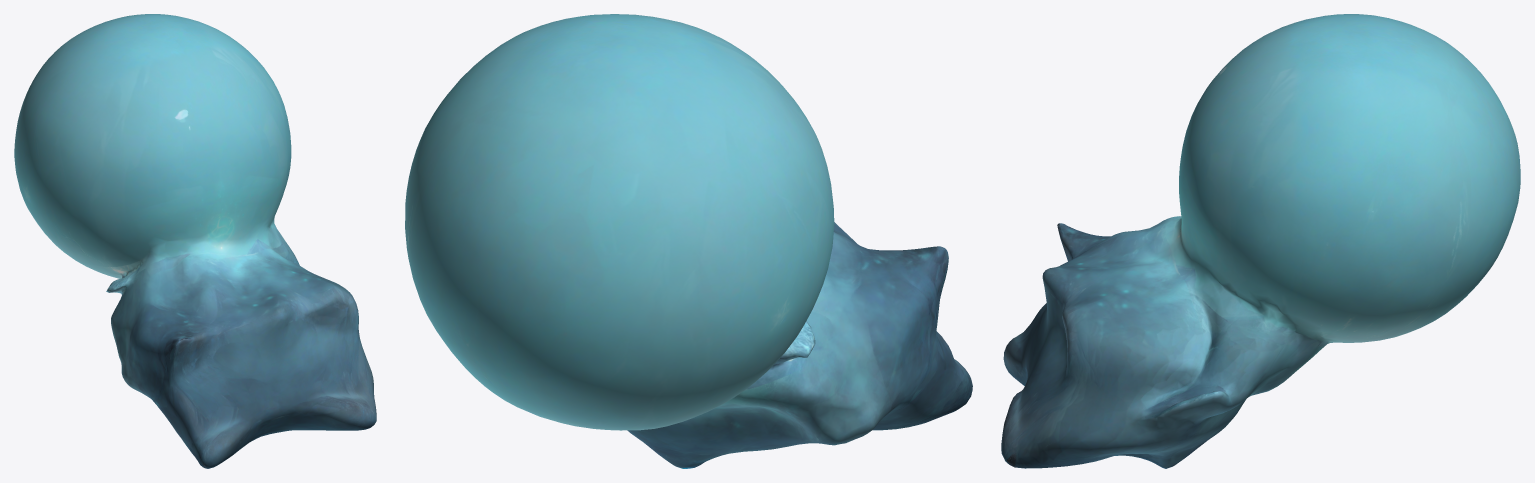
File: Model_Soul.fbx
3 views of the same model, side by side, from view 1: azimuth 30°, elevation 25°; view 2: azimuth 150°, elevation 25°; view 3: azimuth 270°, elevation 25° (orthographic). The views are drawn at different scales.
Parts seen in each view (by area): view 1: input; view 2: input; view 3: input.
Part boxes in pixels (bbox=[...]): input: bbox=[14, 14, 376, 468]; input: bbox=[405, 14, 972, 468]; input: bbox=[1001, 14, 1520, 468].
Size of the model in its own units: 101 by 139 by 157.
Materials: 1 (1 with a texture image).
